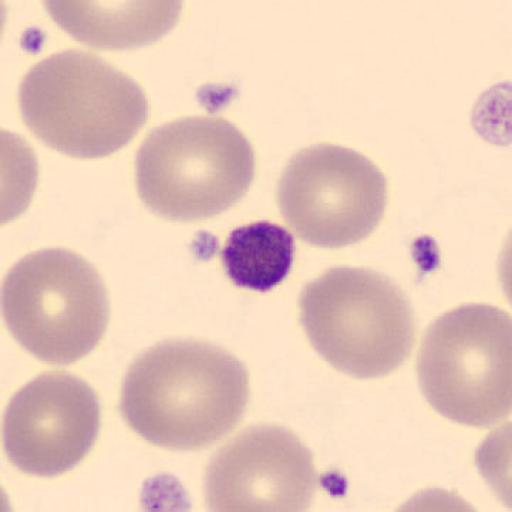Platelet: (218, 216, 298, 296), (134, 467, 195, 512)
RBC: (118, 333, 252, 454), (16, 45, 150, 162), (295, 262, 418, 384), (132, 113, 258, 224), (2, 244, 112, 370), (274, 140, 390, 252), (413, 300, 511, 431), (2, 368, 102, 480), (200, 420, 319, 512), (39, 0, 186, 52), (473, 411, 512, 511), (1, 127, 40, 227), (374, 484, 488, 512), (492, 218, 512, 335), (495, 232, 512, 311)
